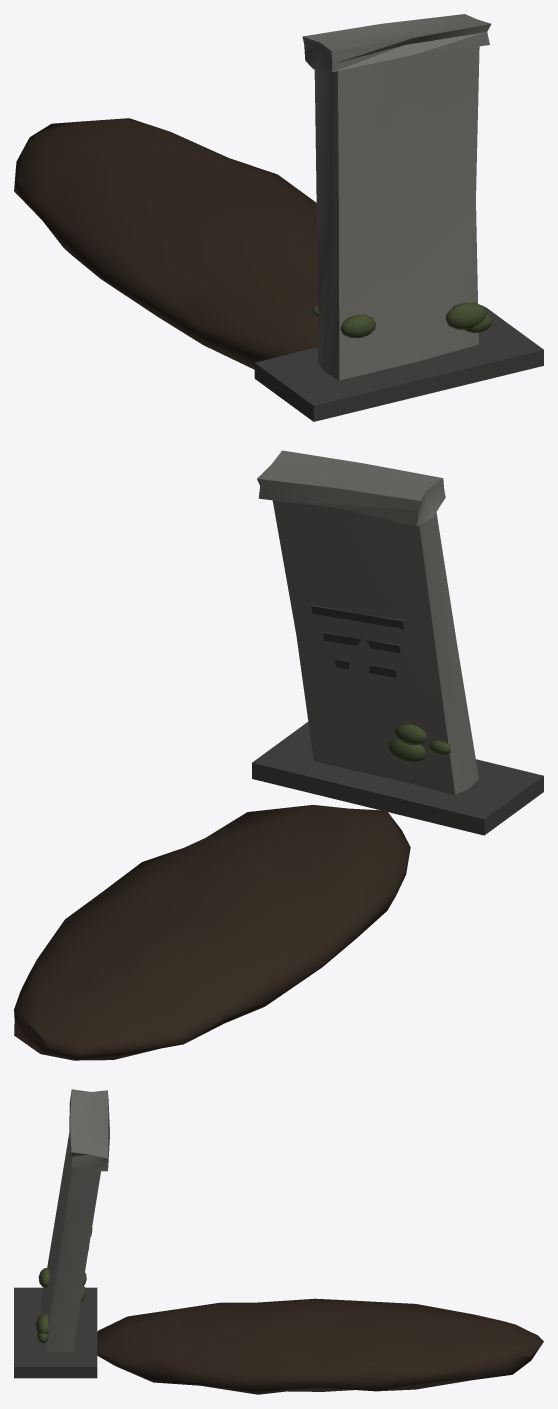
The model's file is SM_80s_Grave_Slab.glb.
3 views of the same model, one above another, from view 1: azimuth 30°, elevation 25°; view 2: azimuth 150°, elevation 25°; view 3: azimuth 270°, elevation 25° (orthographic). The views are drawn at different scales.
Visible parts, largest first — view 1: SM_80s_Grave_Slab; view 2: SM_80s_Grave_Slab; view 3: SM_80s_Grave_Slab.
Part boxes in pixels (x1=…): SM_80s_Grave_Slab: x1=14, y1=14, x2=543, y2=421; SM_80s_Grave_Slab: x1=14, y1=450, x2=543, y2=1060; SM_80s_Grave_Slab: x1=14, y1=1089, x2=543, y2=1394.
Bounding box in the file's own units: 0.9 × 1.41 × 2.55.
